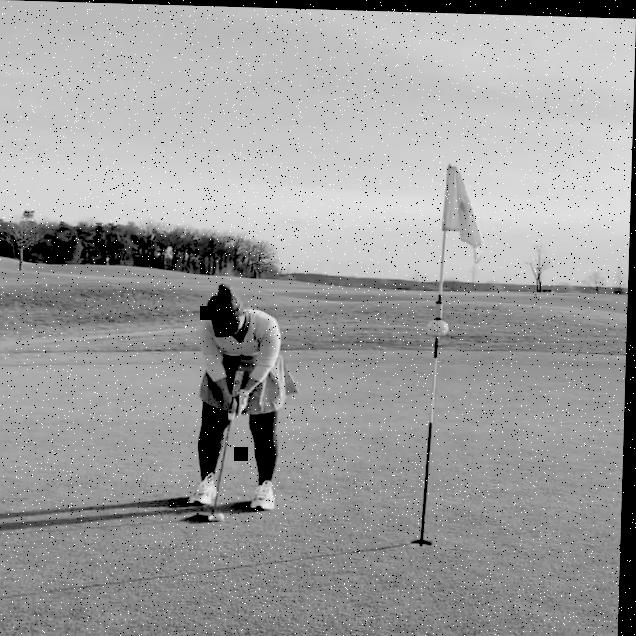ClubHead: (211, 512, 220, 519)
GolfBall: (220, 512, 227, 520)
